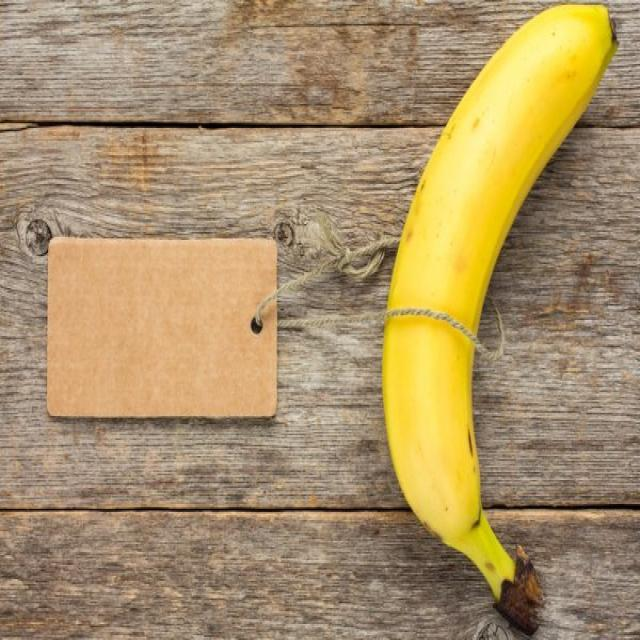banana: (381, 0, 624, 640)
